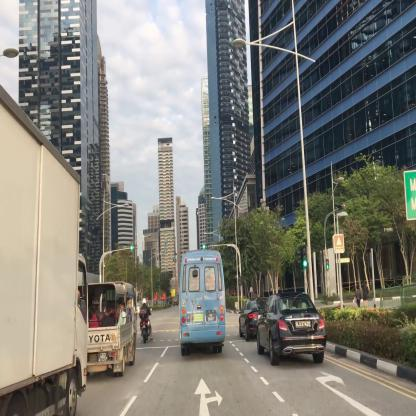green_traffic_light: (300, 242, 308, 273), (202, 242, 210, 249), (129, 244, 136, 249)
